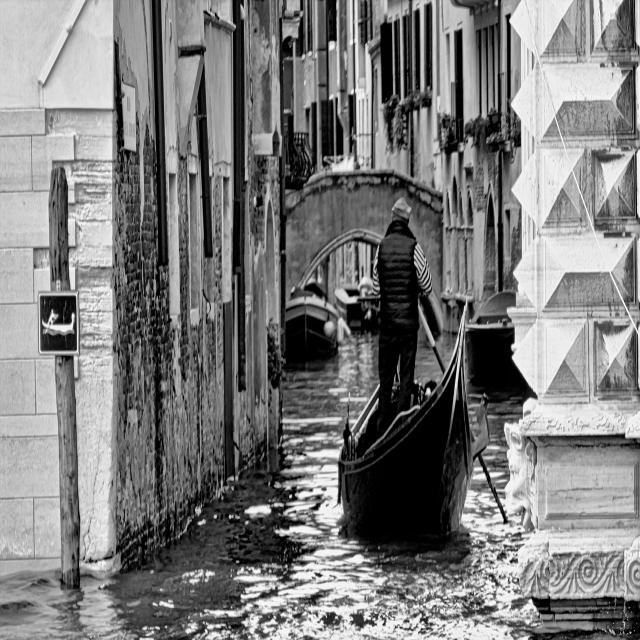boat: (334, 259, 487, 563)
